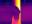Hotspot: (15, 0, 21, 10)
